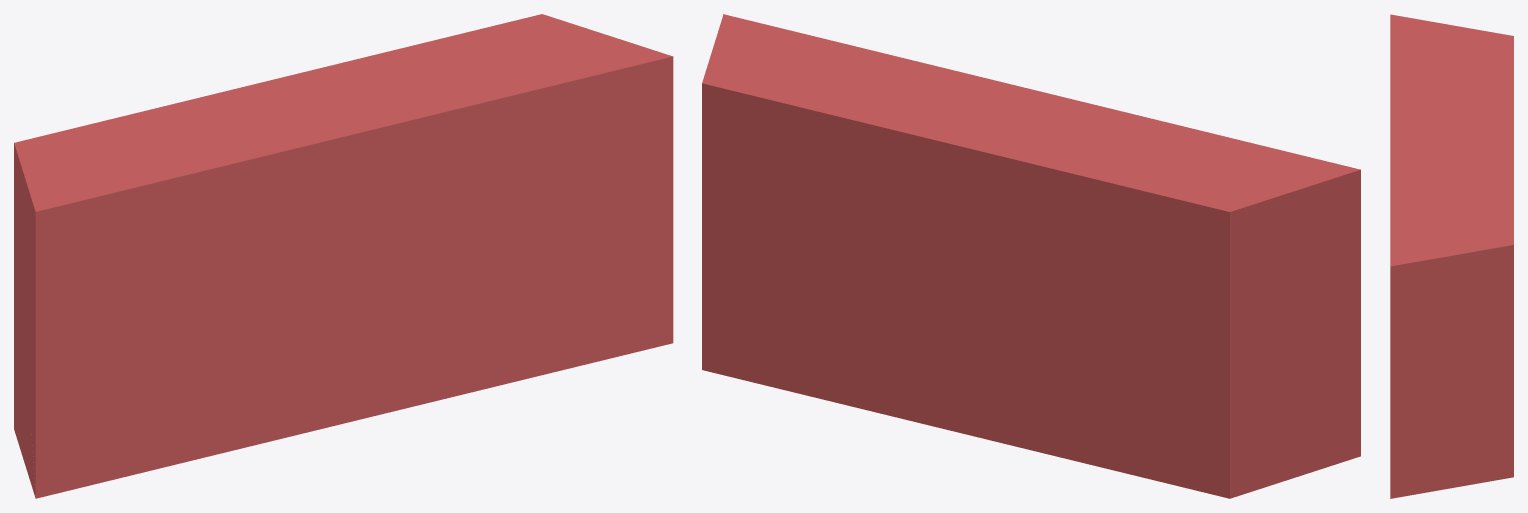
File: ewb_ice_c.glb
The picture shows the model from 3 angles, left to right: view 1: azimuth 30°, elevation 25°; view 2: azimuth 150°, elevation 25°; view 3: azimuth 270°, elevation 25°; orthographic projection. The views are drawn at different scales.
Visible parts, largest first — view 1: ewb_ice_c_col; view 2: ewb_ice_c_col; view 3: ewb_ice_c_col.
Boxes of the visible parts, x1,y1,x2,y2 form: ewb_ice_c_col: [14, 14, 673, 498]; ewb_ice_c_col: [702, 14, 1360, 498]; ewb_ice_c_col: [1390, 14, 1513, 498].
Size of the model in its own units: 2.33 by 1 by 0.4823.
